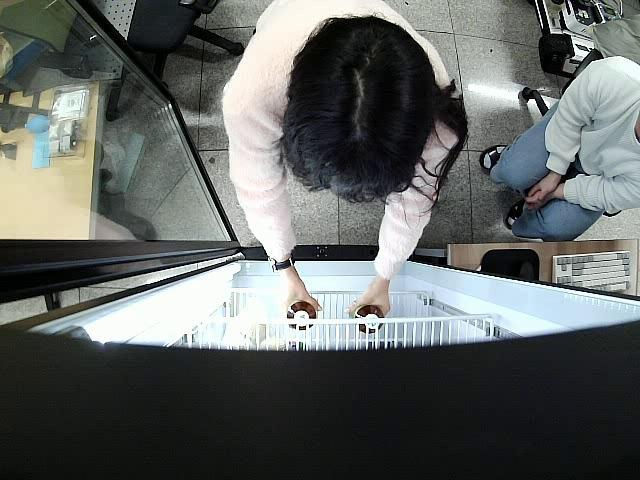19_17cha: (350, 301, 382, 332), (286, 300, 316, 330)
